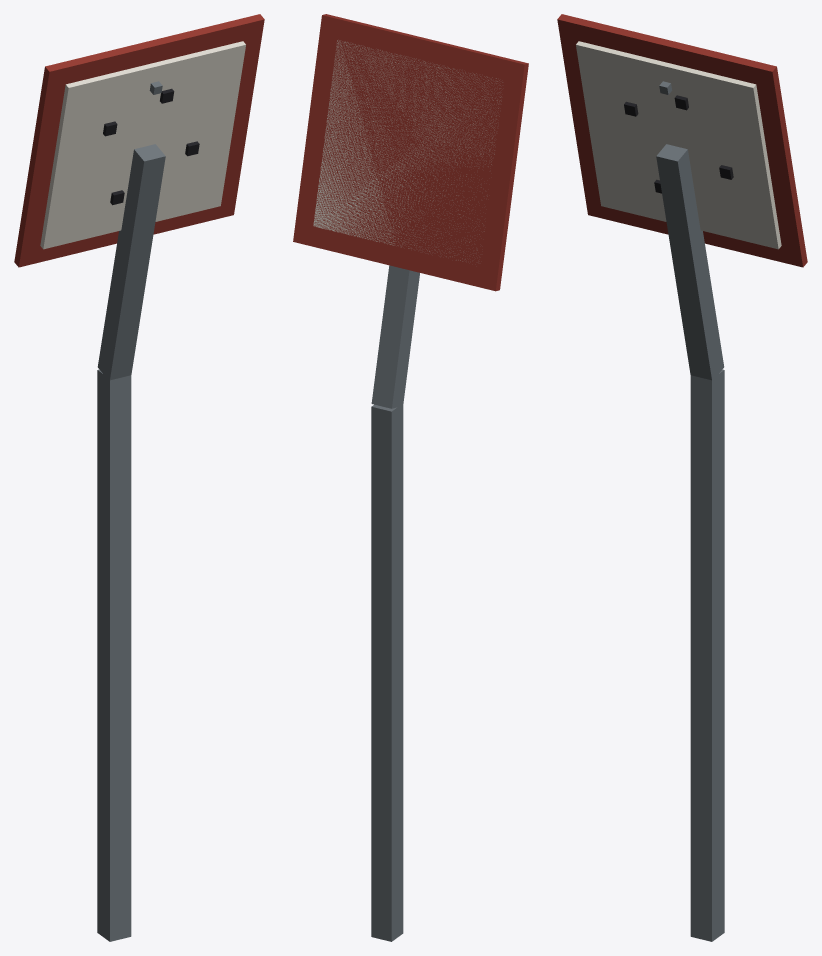
File: road_sign.glb
3 views of the same model, side by side, from view 1: azimuth 30°, elevation 25°; view 2: azimuth 150°, elevation 25°; view 3: azimuth 330°, elevation 25° (orthographic). The views are drawn at different scales.
Parts seen in each view (by area): view 1: road_sign; view 2: road_sign; view 3: road_sign.
Boxes of the visible parts, x1,y1,x2,y2 form: road_sign: (14,14,264,941); road_sign: (293,14,528,941); road_sign: (557,14,807,941).
Size of what is drawn, in the model's own units: 0.8 by 3.28 by 0.325.
1 material, 1 textured.
